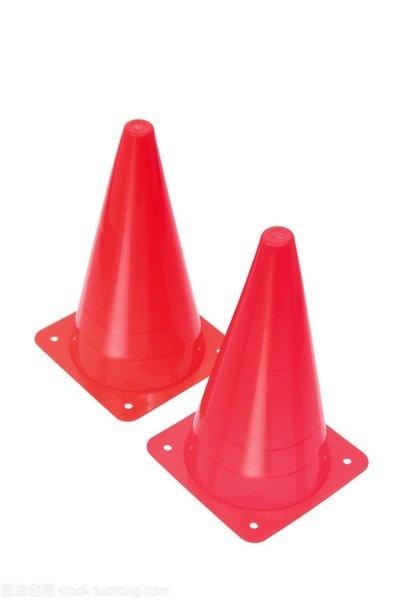cone_barrel: (180, 234, 349, 518), (54, 122, 213, 403)
